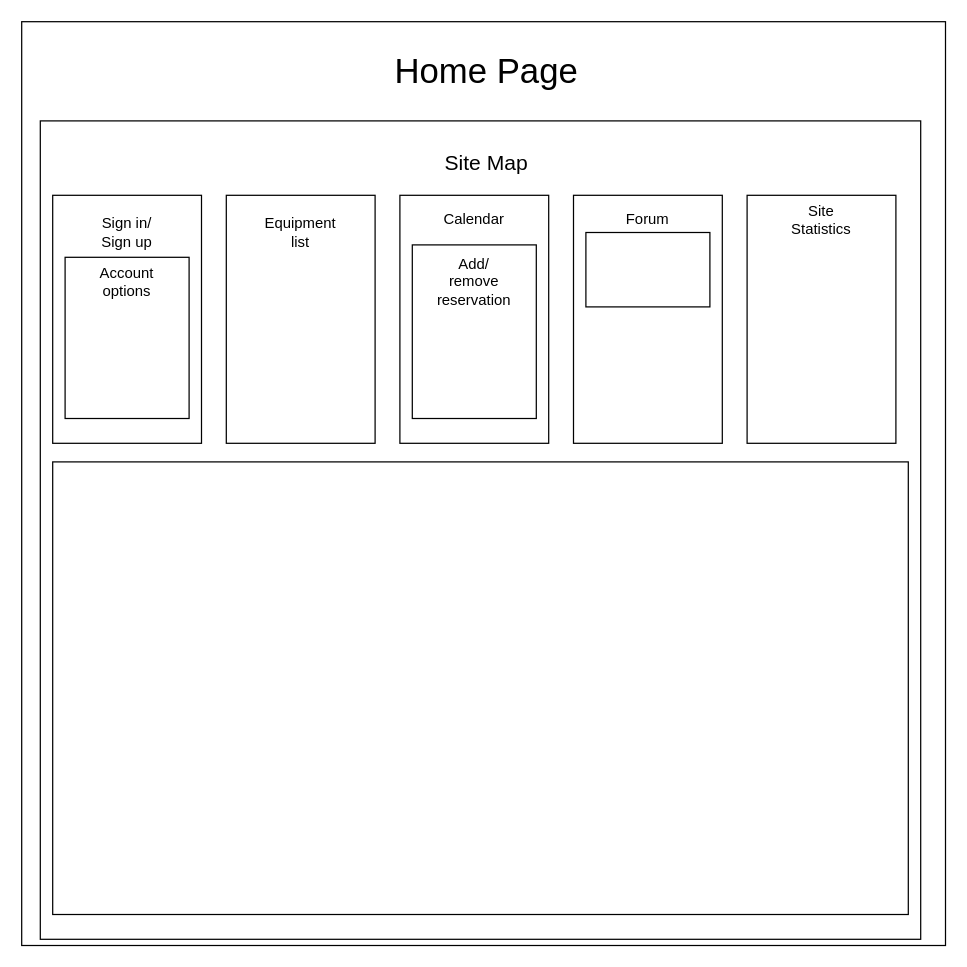
Some shapes in this 967 by 967 pixel diagram are drawn without their labels. Here are the shapes that lost their labels. From the top down, the centre of each, then its label:
At (x=647, y=269): "add/ remove content".
At (x=479, y=687): "Mission statement / about us".
